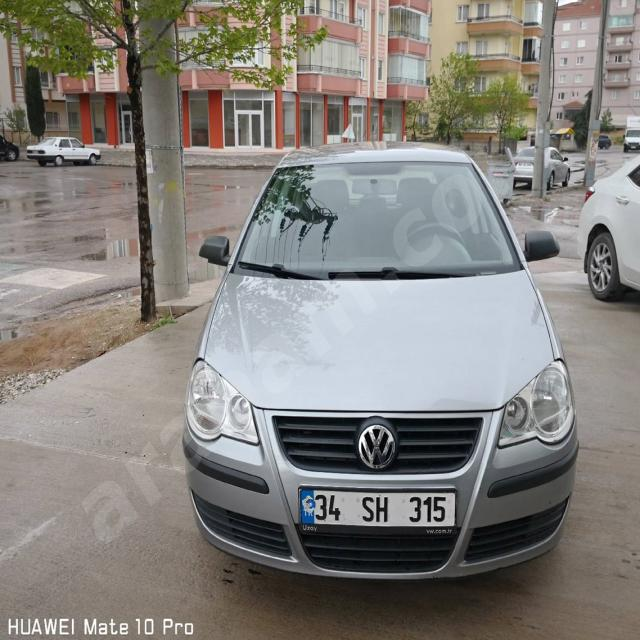license_plate: (299, 488, 456, 527)
